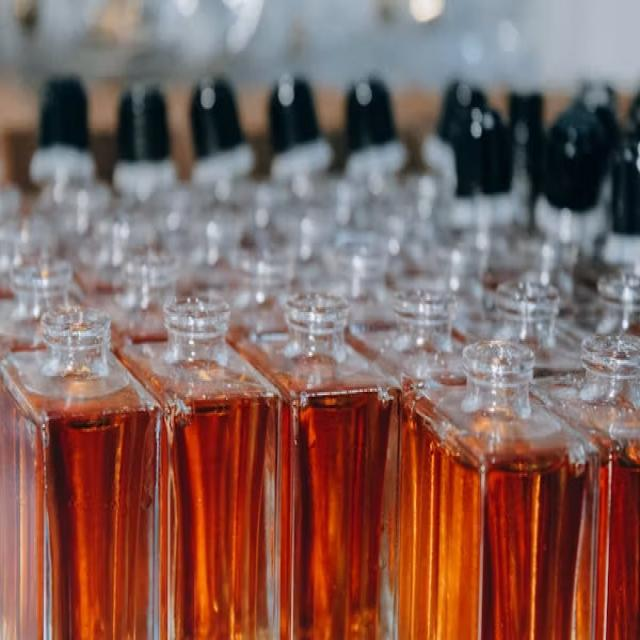Bottle: (399, 341, 597, 639), (121, 298, 280, 638), (242, 295, 399, 638), (0, 308, 161, 639), (535, 335, 639, 639), (30, 77, 110, 259), (348, 288, 465, 393), (457, 280, 581, 377), (440, 108, 518, 249), (536, 104, 607, 255), (91, 250, 179, 351), (391, 234, 487, 321), (483, 236, 590, 313), (422, 80, 486, 206), (114, 84, 177, 201), (30, 77, 94, 190), (221, 248, 295, 345), (75, 208, 157, 294), (191, 77, 254, 188), (327, 232, 394, 334), (472, 108, 522, 243), (269, 76, 332, 182), (0, 260, 73, 350), (346, 77, 407, 179), (575, 82, 620, 206), (439, 108, 483, 233), (563, 271, 639, 339), (602, 136, 639, 273), (509, 92, 545, 227), (0, 216, 58, 299), (0, 183, 22, 223)
